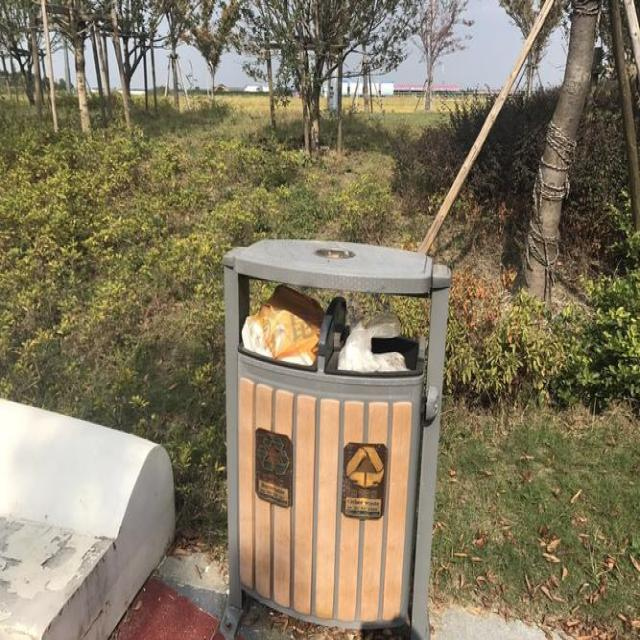overflow: (220, 237, 451, 639)
